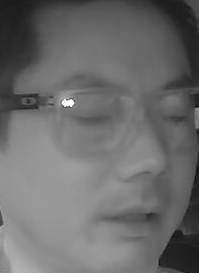blink: (74, 108, 113, 131), (161, 109, 191, 128)
glass: (52, 89, 137, 155), (154, 88, 199, 155)
mouth: (100, 198, 169, 239)
